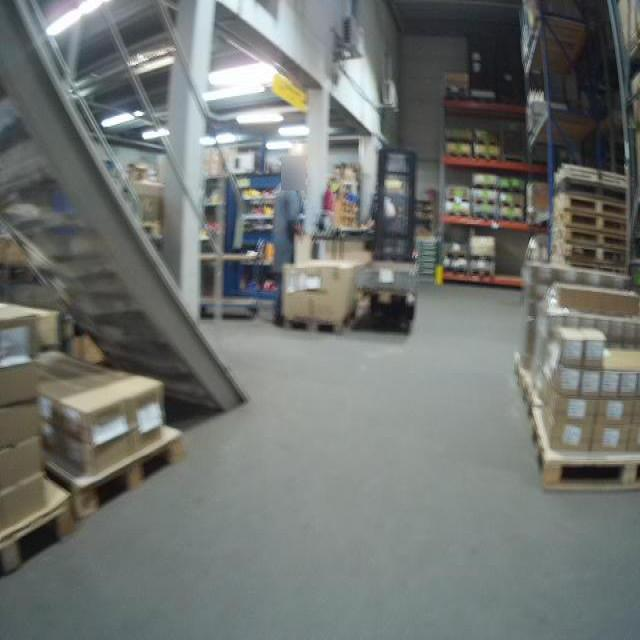pallet: (47, 420, 187, 515), (530, 411, 640, 492), (2, 482, 77, 581), (565, 244, 629, 271), (280, 314, 356, 336), (565, 211, 628, 234), (562, 178, 627, 199), (565, 196, 626, 217), (567, 231, 630, 251), (469, 252, 496, 264), (471, 267, 494, 279), (471, 181, 498, 191), (498, 214, 524, 224), (472, 197, 499, 206), (474, 136, 498, 146), (446, 136, 472, 145), (499, 184, 525, 193), (474, 153, 502, 161), (446, 194, 470, 203), (500, 200, 524, 209), (445, 209, 471, 217), (442, 265, 468, 273), (448, 150, 473, 158), (444, 252, 469, 260), (474, 212, 498, 220)
pallet_truck: (361, 142, 426, 326)
